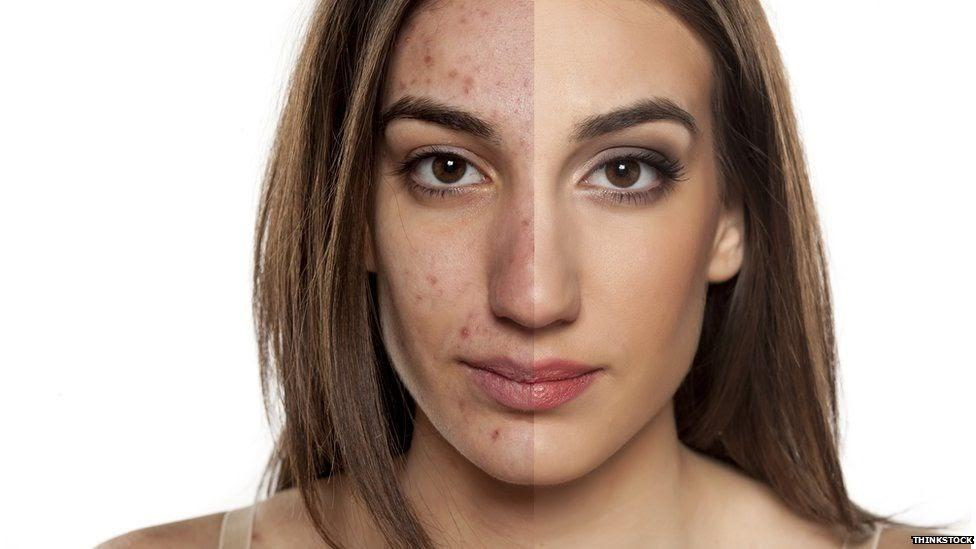Acne: (370, 4, 532, 450)
